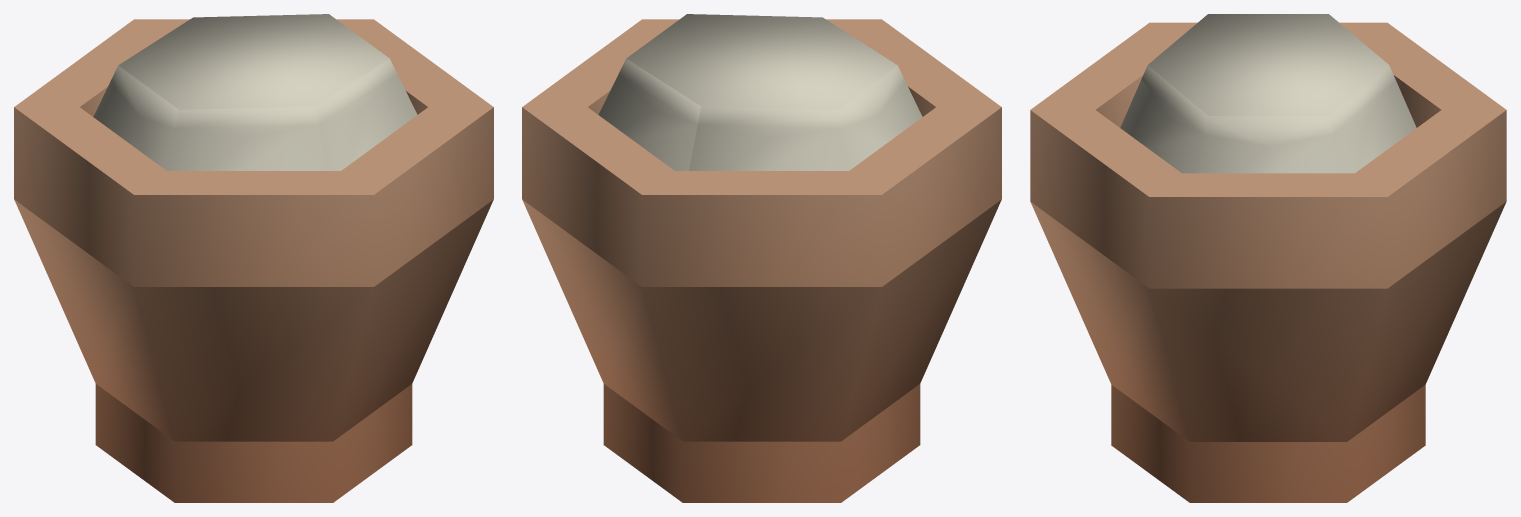
File: expired-yogurt.glb
3 renders of one model, left to right at view 1: azimuth 30°, elevation 25°; view 2: azimuth 150°, elevation 25°; view 3: azimuth 270°, elevation 25°, orthographic.
Visible parts, largest first — view 1: expired-yogurt; view 2: expired-yogurt; view 3: expired-yogurt.
Part boxes in pixels (left/top/right/bottom): expired-yogurt: left=14, top=14, right=493, bottom=502; expired-yogurt: left=522, top=14, right=1001, bottom=502; expired-yogurt: left=1030, top=14, right=1506, bottom=502.
Bounding box in the file's own units: 0.1819 × 0.185 × 0.21.
